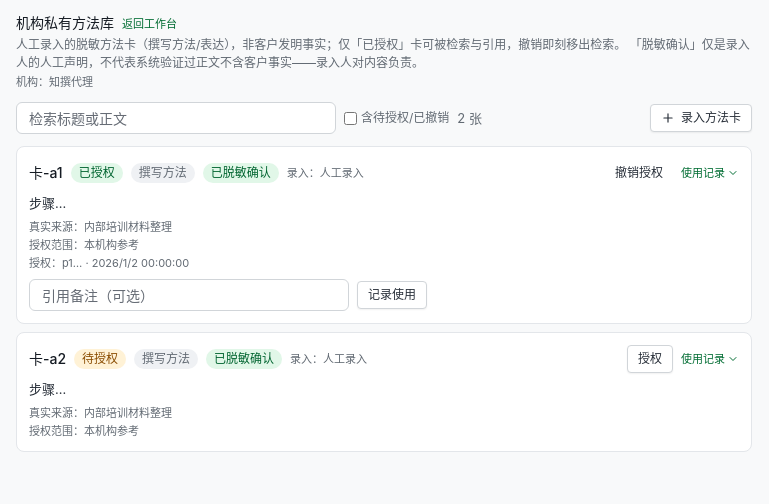
Test: Z30 机构方法库页 › 管理者视图：列出卡（含全状态开关）、授权/撤销/记录使用按钮齐
Expected: the list item with test id "ml-asset-a1" is shown, 16,146 -> 752,324
Expected: the checkbox with test id "ml-all-states" is shown, 344,112 -> 357,124
Click the button with test id "ml-uses-toggle-a1" at (710, 173), box 681,165 -> 739,181
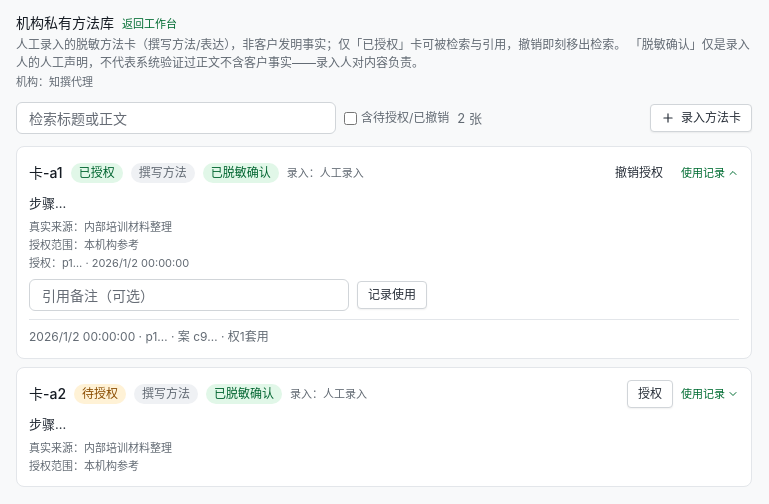
Expected: the list with test id "ml-uses-a1" shows "权1套用", 218,329 -> 269,344
